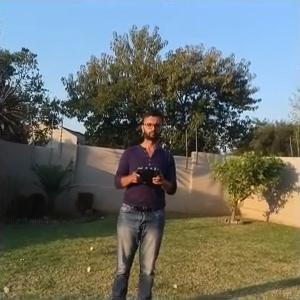follow: (106, 101, 181, 298)
